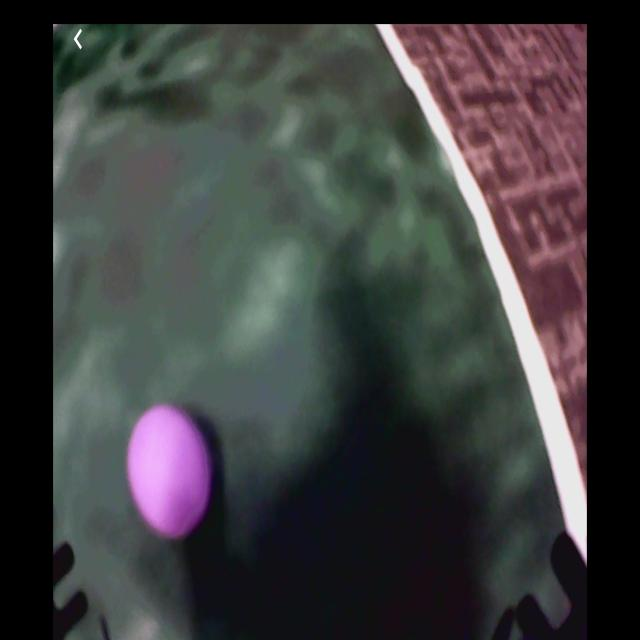ball: (128, 403, 212, 538)
